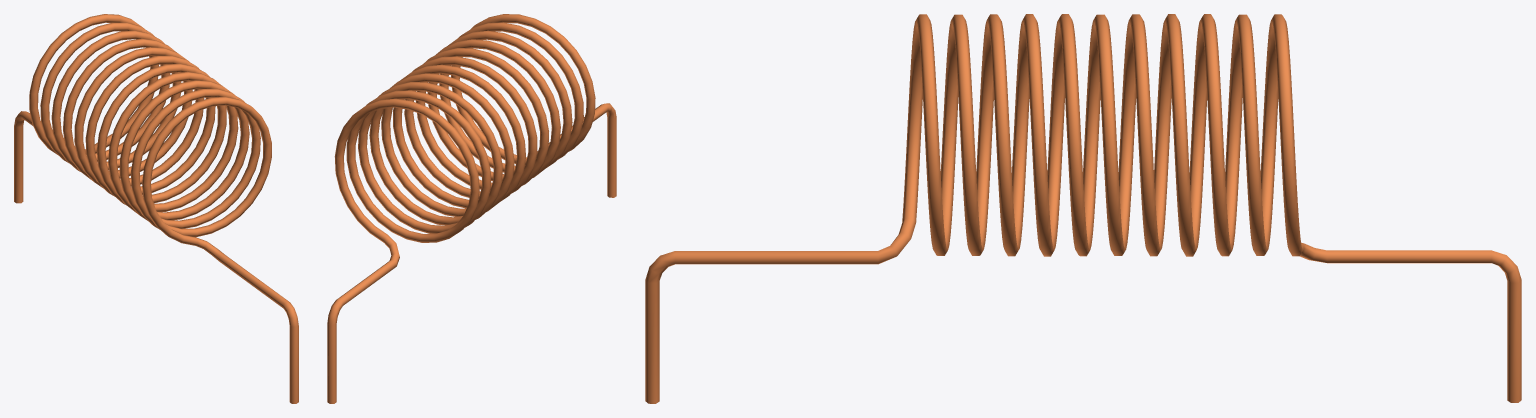
File: solenoid.glb
3 views of the same model, side by side, from view 1: azimuth 30°, elevation 25°; view 2: azimuth 150°, elevation 25°; view 3: azimuth 270°, elevation 25° (orthographic). The views are drawn at different scales.
Visible parts, largest first — view 1: solenoid; view 2: solenoid; view 3: solenoid.
Part boxes in pixels (x1=…): solenoid: x1=14, y1=14, x2=298, y2=403; solenoid: x1=327, y1=14, x2=616, y2=403; solenoid: x1=645, y1=14, x2=1521, y2=403.
Bounding box in the file's own units: 1.07 × 1.82 × 3.85.
